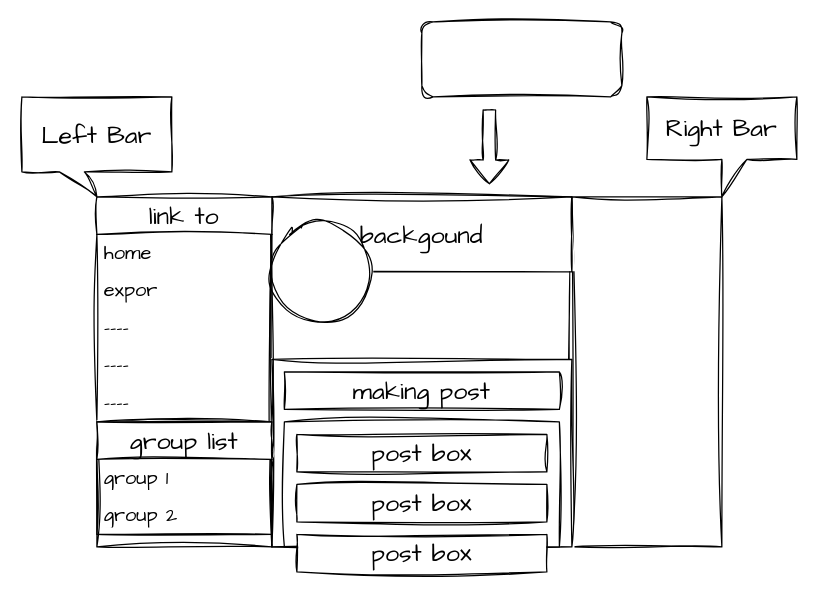
Image size: 819x594. Some labels were removed from this diagram. Each missing label, with the centre of its shape:
avatar: (x=321, y=271)
Display: (x=646, y=371)
scroll up / down: (x=521, y=59)
